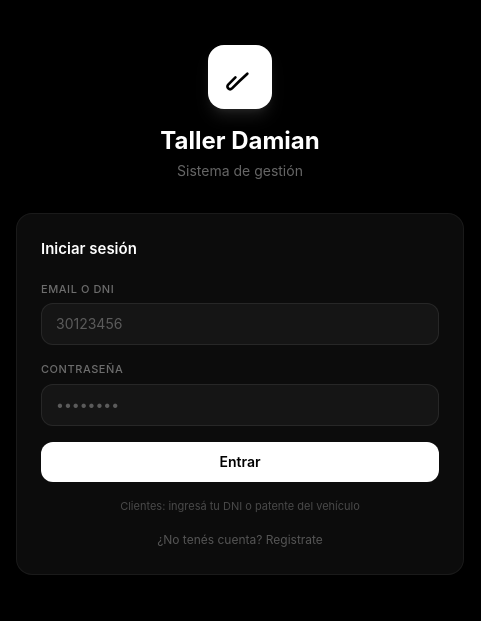
Test case: Login › shows error message when login fails
The image size is (481, 621).
Type "admin@taller.com" into the field with placeholder "30123456" at (240, 324), box x1=41 y1=303 x2=439 y2=345
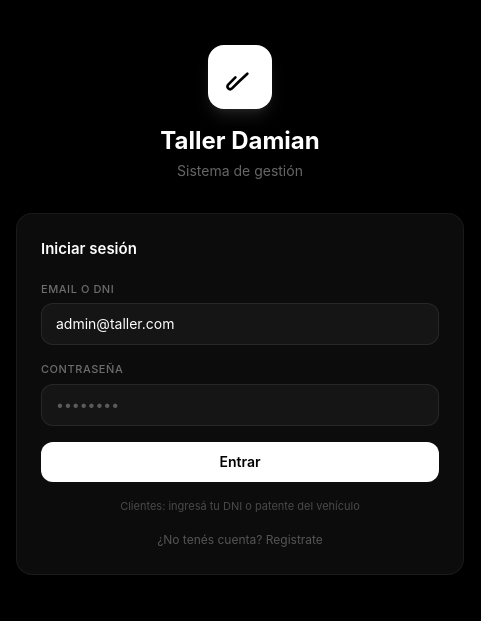
Type "wrongpass" into the password field with placeholder "••••••••" at (240, 404), box x1=41 y1=384 x2=439 y2=426
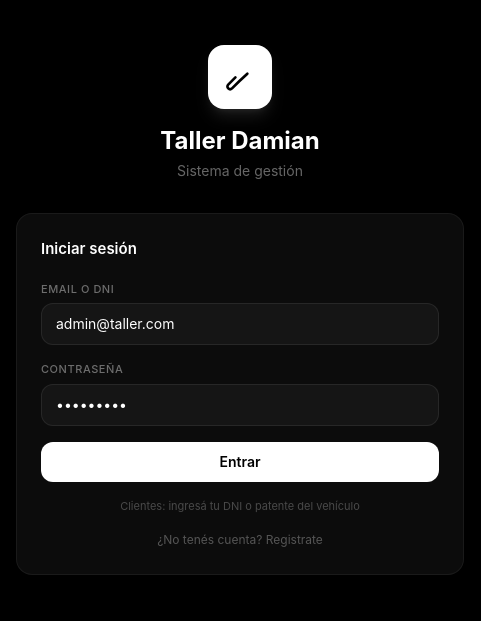
Click the button "Entrar" at (240, 462), box x1=41 y1=442 x2=439 y2=482
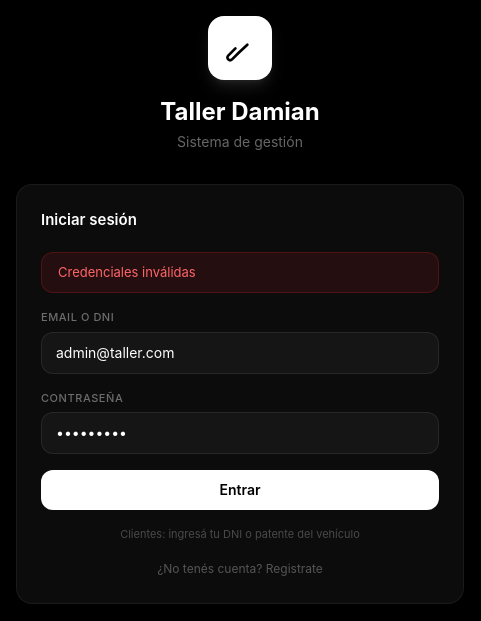
Now the text "Credenciales inválidas" is shown, box x1=41 y1=252 x2=439 y2=293
